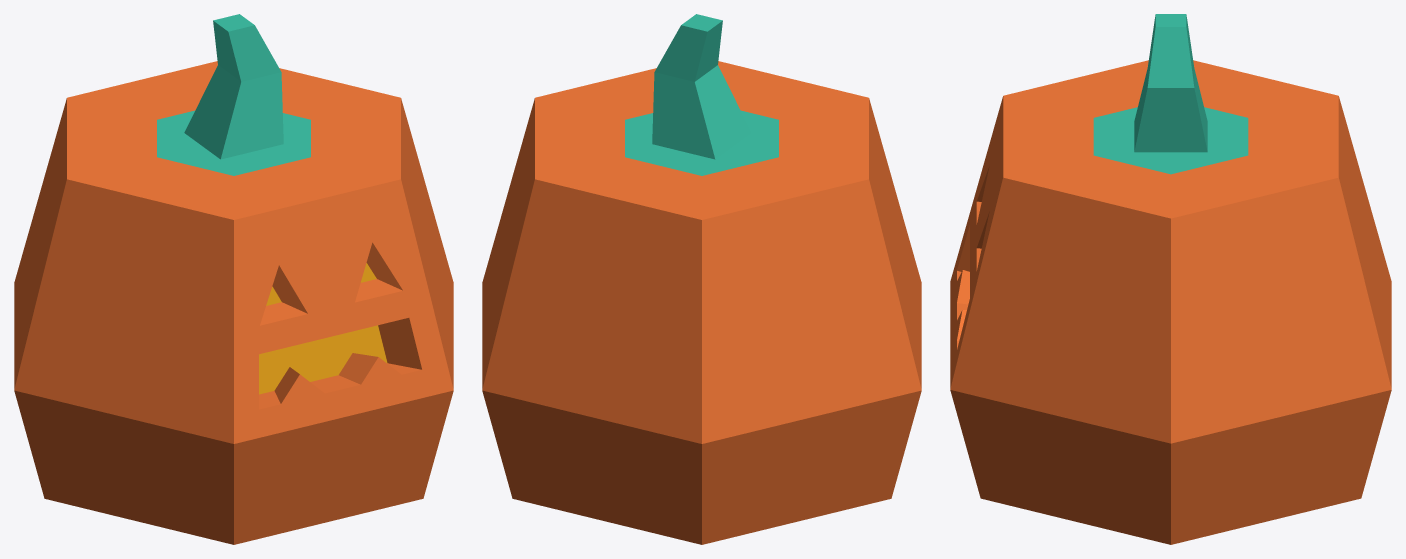
Rendered from pumpkinTallCarved.dae.
3 renders of one model, left to right at view 1: azimuth 30°, elevation 25°; view 2: azimuth 150°, elevation 25°; view 3: azimuth 270°, elevation 25°, orthographic.
Parts seen in each view (by area): view 1: pumpkinTallCarved; view 2: pumpkinTallCarved; view 3: pumpkinTallCarved.
Boxes of the visible parts, <box> form: pumpkinTallCarved: <box>14,14,453,544</box>; pumpkinTallCarved: <box>482,14,921,544</box>; pumpkinTallCarved: <box>950,14,1391,544</box>.
Bounding box in the file's own units: 0.2784 × 0.26 × 0.2411.
